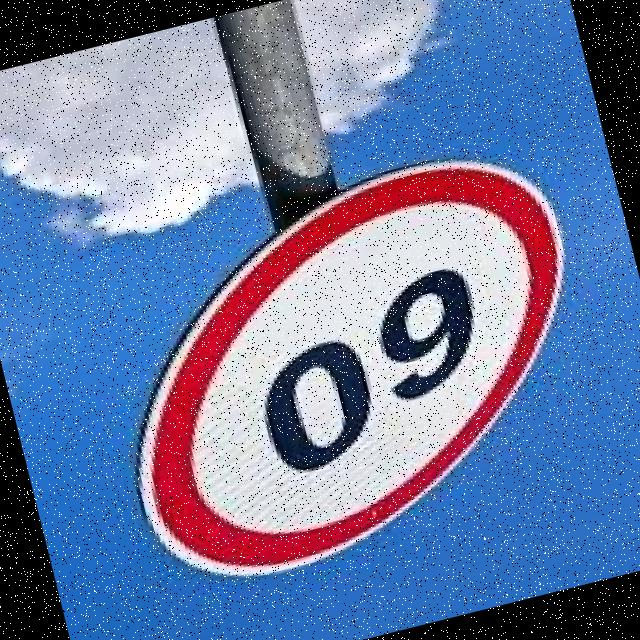speed_limit_60: (61, 118, 640, 605)
